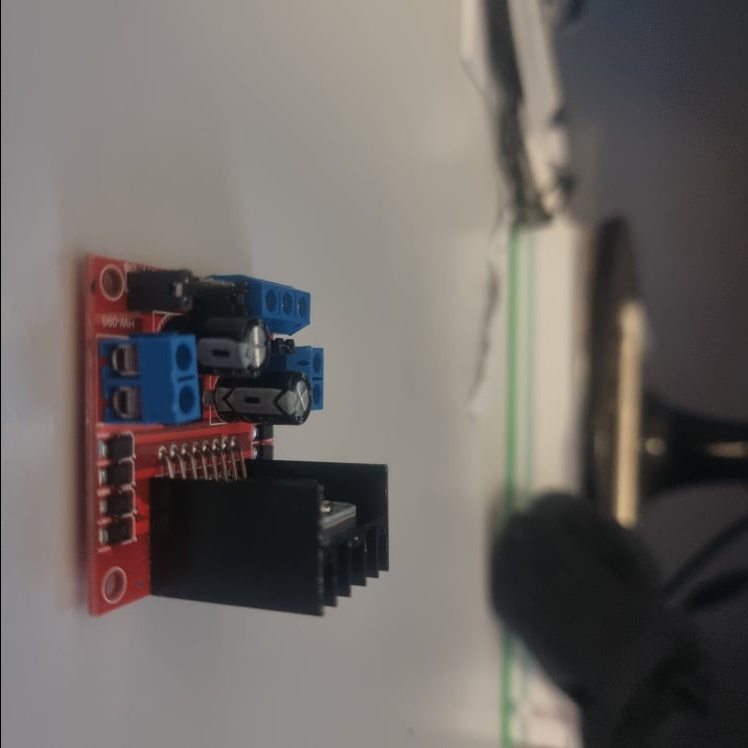MOTOR: (80, 249, 391, 623)
